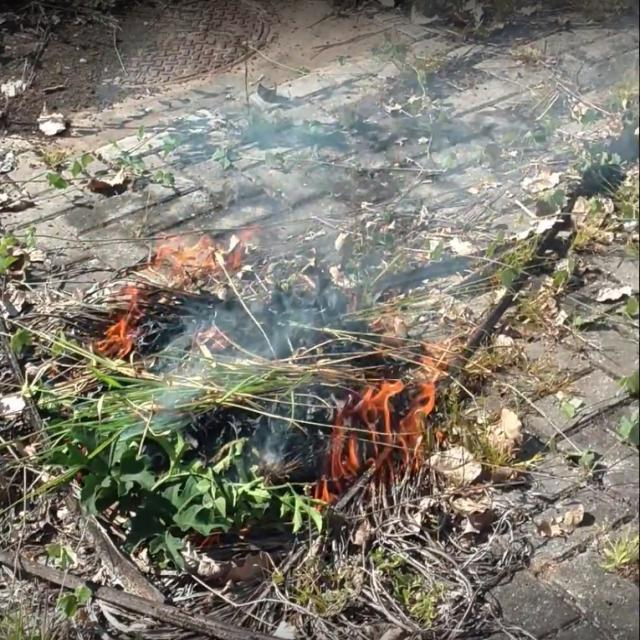Fire: (316, 360, 436, 502), (153, 230, 244, 288), (100, 311, 130, 360)
